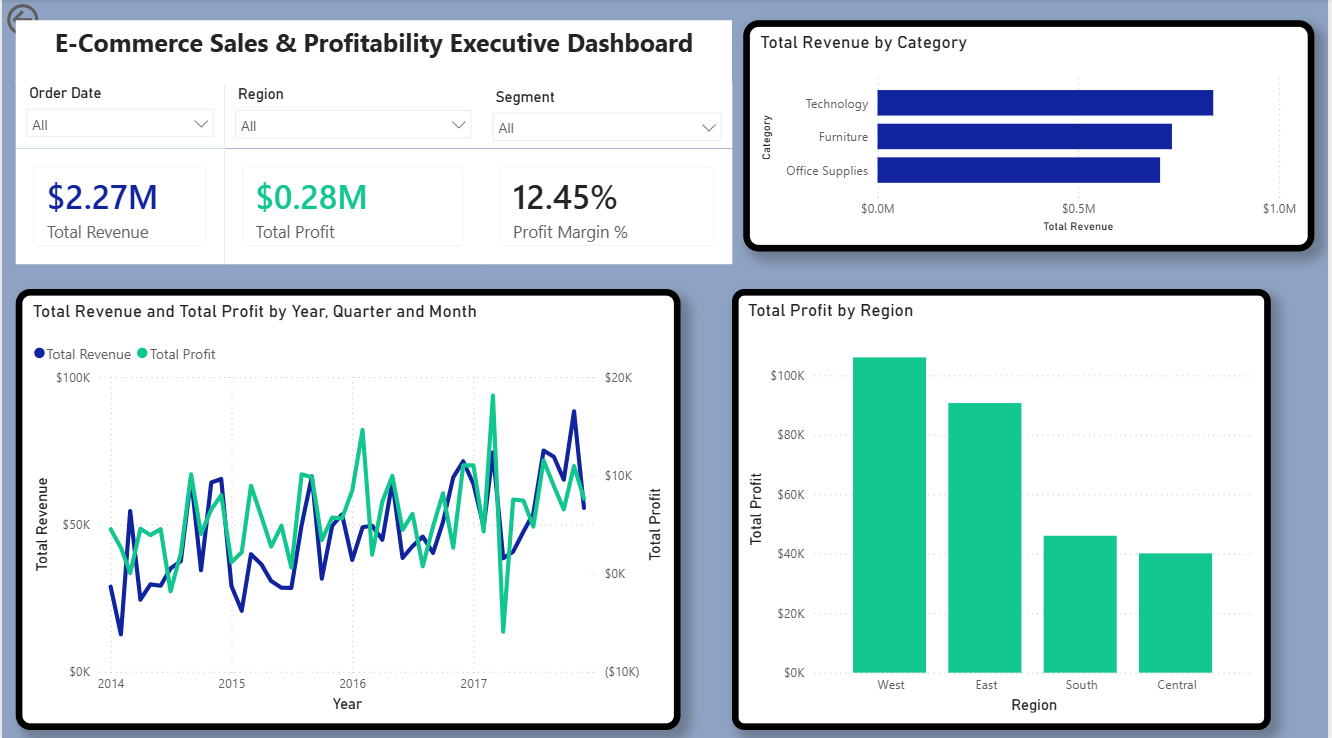

What the dashboard file says about the page in this screenshot:
{"tool":"powerbi","page":{"name":"Page 1","canvas":[1280,720],"ordinal":0},"visuals":[{"type":"actionButton","box":[0,0,100,40],"z":4000},{"type":"slicer","fields":{"Values":["superstore orders.Order Date"]},"box":[12.9,77.1,201.4,67.1],"z":4001},{"type":"slicer","fields":{"Values":["superstore orders.Region"]},"box":[214.3,78.6,248.6,65.7],"z":4002},{"type":"slicer","fields":{"Values":["superstore orders.Segment"]},"box":[462.9,81.4,241.4,62.9],"z":4003},{"type":"textbox","box":[12.9,20,691.4,61.4],"z":4004},{"type":"cardVisual","fields":{"Data":["Measures (2).Total Revenue"]},"box":[12.9,144.3,201.4,111.4],"z":4005},{"type":"cardVisual","fields":{"Data":["Measures (2).Total Profit"]},"box":[214.3,144.3,248.6,111.4],"z":4006},{"type":"cardVisual","fields":{"Data":["Measures (2).Profit Margin %"]},"box":[462.9,144.3,241.4,111.4],"z":4007},{"type":"lineChart","fields":{"Y":["Measures (2).Total Revenue"],"Y2":["Measures (2).Total Profit"],"Category":["superstore orders.Order Date.Variation.Date Hierarchy.Year","superstore orders.Order Date.Variation.Date Hierarchy.Quarter","superstore orders.Order Date.Variation.Date Hierarchy.Month","superstore orders.Order Date.Variation.Date Hierarchy.Day"]},"box":[12.9,280,641.4,425.7],"z":4008},{"type":"clusteredColumnChart","fields":{"Category":["superstore orders.Region"],"Y":["Measures (2).Total Profit"]},"box":[704.3,280,520,425.7],"z":4009},{"type":"clusteredBarChart","fields":{"Category":["superstore orders.Category"],"Y":["Measures (2).Total Revenue"]},"box":[715.7,20,551.4,222.9],"z":4010}]}

Visuals, with their boxes in screenshot pixels (x1, y1, x2, y2), scaled from the page's 1280x720 canvas onto the 1332x738 screenshot:
actionButton: x1=0 y1=0 x2=104 y2=41
slicer - superstore orders.Order Date: x1=13 y1=79 x2=223 y2=148
slicer - superstore orders.Region: x1=223 y1=81 x2=482 y2=148
slicer - superstore orders.Segment: x1=482 y1=83 x2=733 y2=148
textbox: x1=13 y1=20 x2=733 y2=83
cardVisual - Measures (2).Total Revenue: x1=13 y1=148 x2=223 y2=262
cardVisual - Measures (2).Total Profit: x1=223 y1=148 x2=482 y2=262
cardVisual - Measures (2).Profit Margin %: x1=482 y1=148 x2=733 y2=262
lineChart - Measures (2).Total Revenue x Measures (2).Total Profit: x1=13 y1=287 x2=681 y2=723
clusteredColumnChart - superstore orders.Region x Measures (2).Total Profit: x1=733 y1=287 x2=1274 y2=723
clusteredBarChart - superstore orders.Category x Measures (2).Total Revenue: x1=745 y1=20 x2=1319 y2=249
